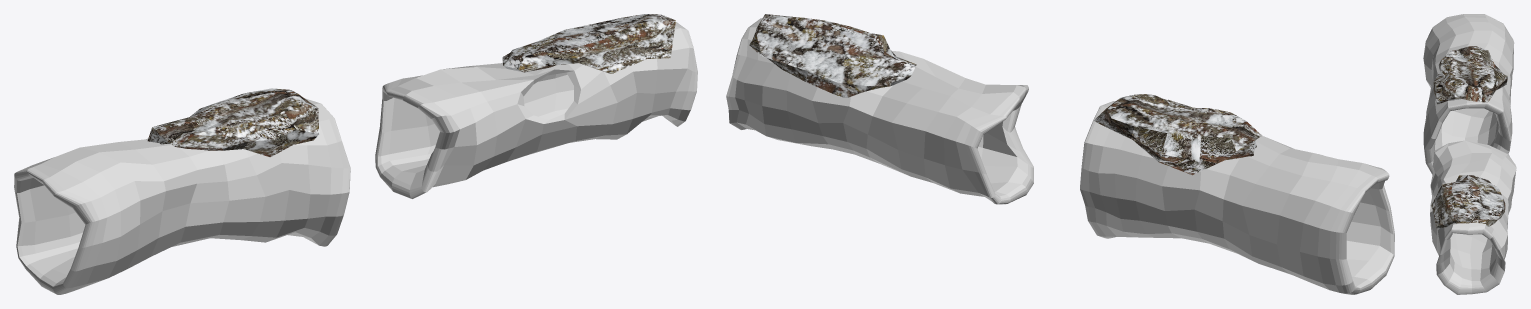
Rendered from Trunks.fbx.
3 views of the same model, side by side, from view 1: azimuth 30°, elevation 25°; view 2: azimuth 150°, elevation 25°; view 3: azimuth 270°, elevation 25° (orthographic). The views are drawn at different scales.
Parts seen in each view (by area): view 1: Trunk, Trunk.001, Snow.003, Snow; view 2: Trunk, Trunk.001, Snow, Snow.003; view 3: Trunk.001, Trunk, Snow.003, Snow.
Part boxes in pixels (x1,y1,x2,y2): Trunk: [14, 98, 350, 294]; Trunk.001: [375, 22, 697, 198]; Snow.003: [147, 88, 319, 157]; Snow: [502, 14, 675, 73]; Trunk: [1080, 101, 1394, 294]; Trunk.001: [726, 18, 1033, 204]; Snow: [749, 14, 916, 97]; Snow.003: [1094, 94, 1262, 175]; Trunk.001: [1430, 140, 1516, 294]; Trunk: [1423, 14, 1514, 174]; Snow.003: [1433, 46, 1507, 104]; Snow: [1431, 175, 1505, 228].
Bounding box in the file's own units: 987 × 220 × 179.
